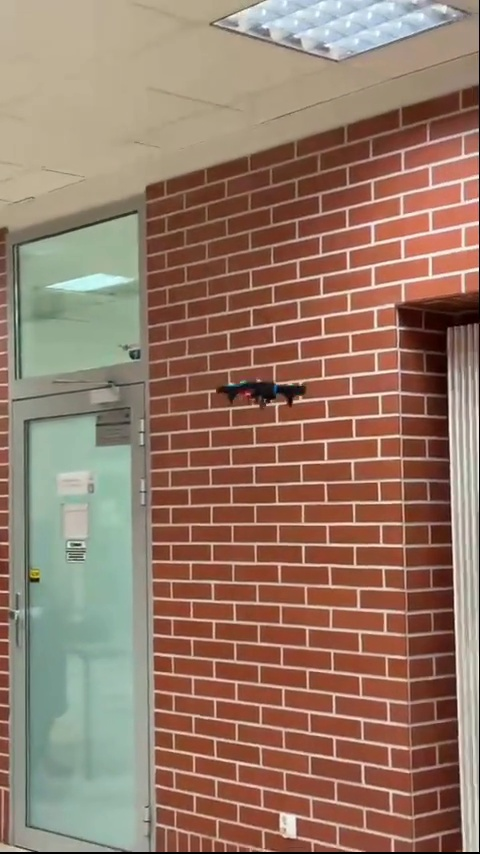drone: (214, 371, 306, 408)
